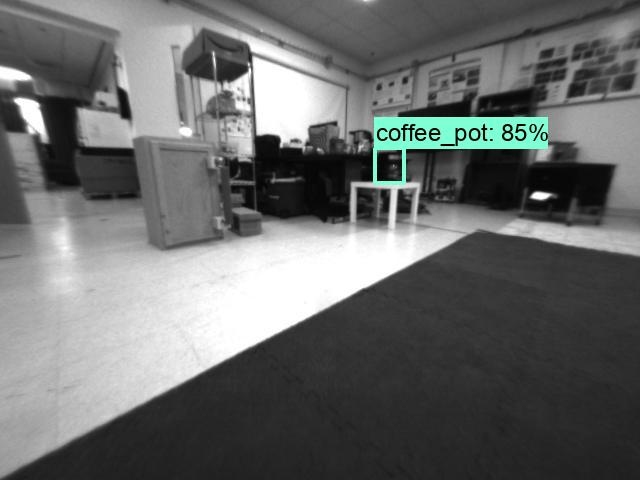coffee_pot: (373, 151, 406, 184)
